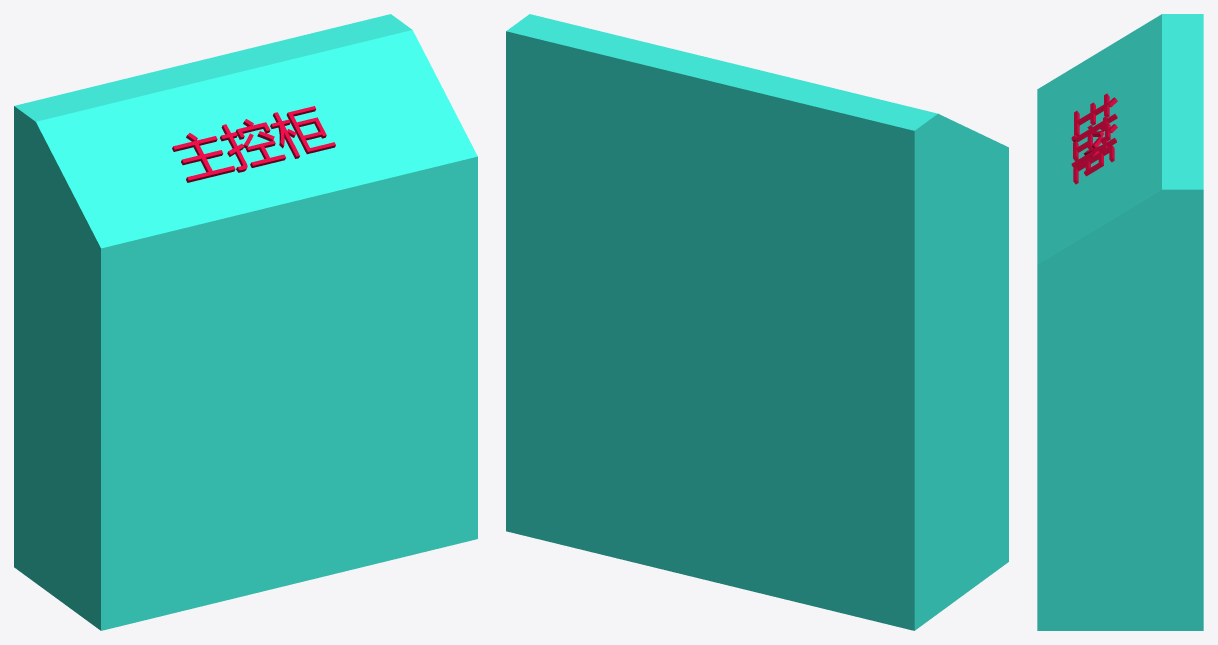
File: 主控柜.fbx
3 views of the same model, side by side, from view 1: azimuth 30°, elevation 25°; view 2: azimuth 150°, elevation 25°; view 3: azimuth 270°, elevation 25° (orthographic). The views are drawn at different scales.
Bounding box in the file's own units: 0.00158 × 0.00185 × 0.000631.
